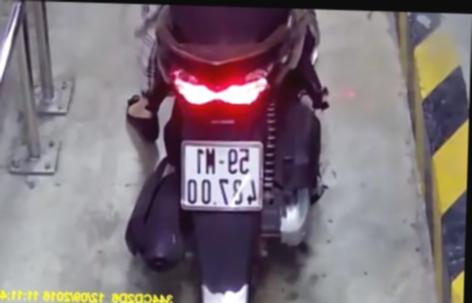License_Plate: (171, 135, 272, 215)
